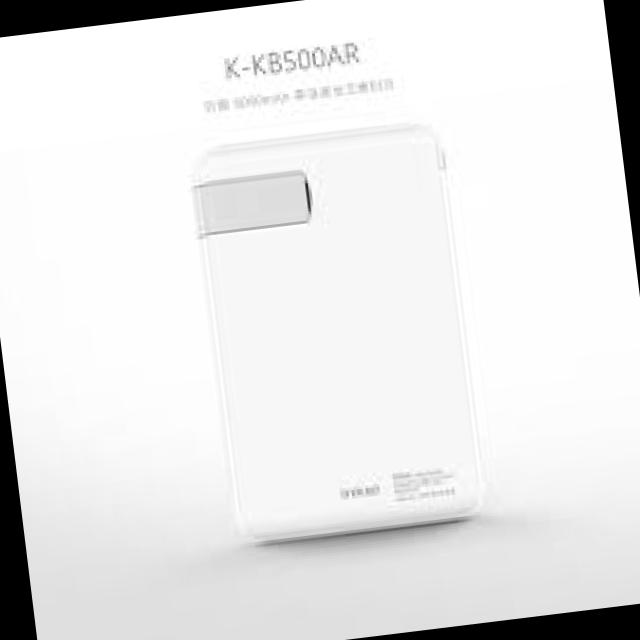portable-charger: (187, 111, 501, 558)
